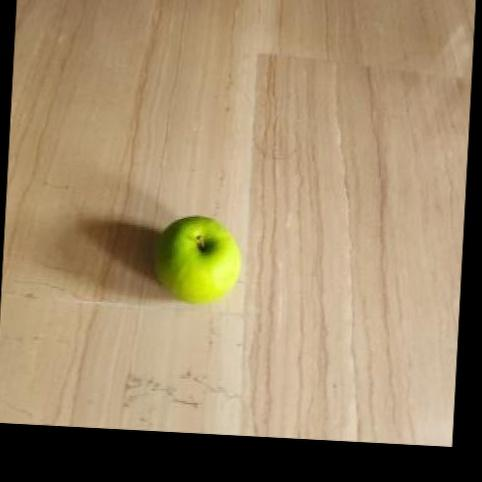green apple: (153, 210, 242, 301)
